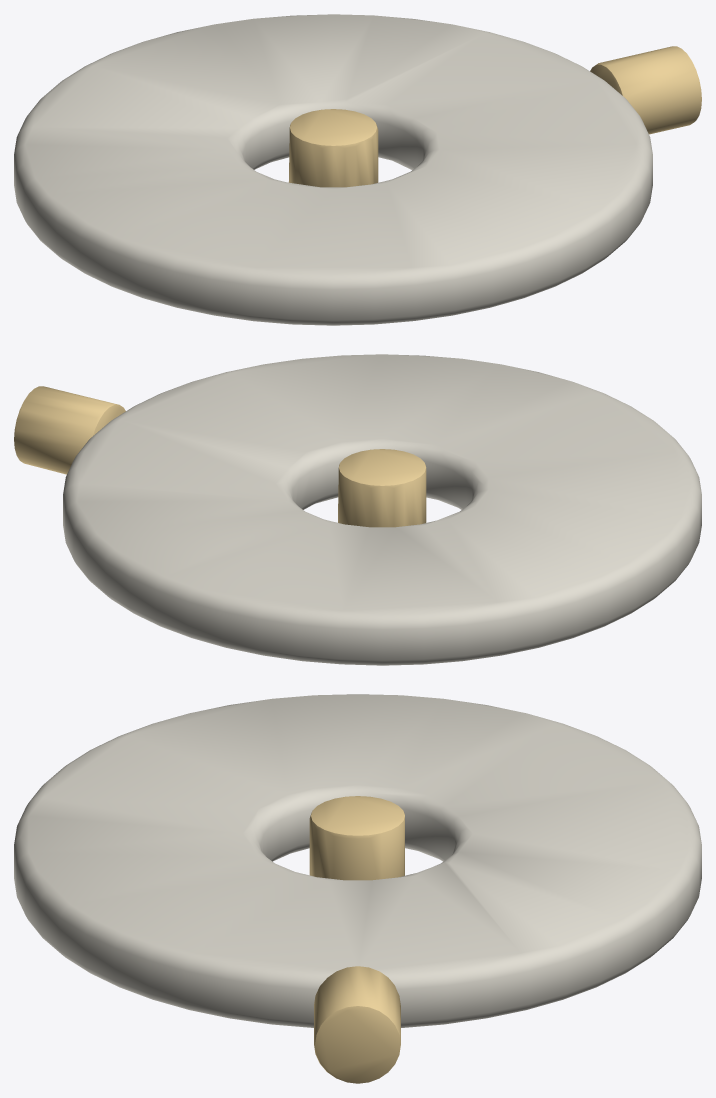
File: HID-INC-002_lod1.glb
3 views of the same model, one above another, from view 1: azimuth 30°, elevation 25°; view 2: azimuth 150°, elevation 25°; view 3: azimuth 270°, elevation 25° (orthographic). The views are drawn at different scales.
Visible parts, largest first — view 1: HID-INC-002_mangueira, HID-INC-002_junta_int, HID-INC-002_junta_ext; view 2: HID-INC-002_mangueira, HID-INC-002_junta_int, HID-INC-002_junta_ext; view 3: HID-INC-002_mangueira, HID-INC-002_junta_ext, HID-INC-002_junta_int.
Boxes of the visible parts, x1=… form: HID-INC-002_mangueira: x1=14, y1=14, x2=652, y2=325; HID-INC-002_junta_int: x1=288, y1=109, x2=378, y2=187; HID-INC-002_junta_ext: x1=590, y1=46, x2=701, y2=134; HID-INC-002_mangueira: x1=63, y1=354, x2=701, y2=665; HID-INC-002_junta_int: x1=338, y1=449, x2=426, y2=527; HID-INC-002_junta_ext: x1=14, y1=386, x2=125, y2=474; HID-INC-002_mangueira: x1=14, y1=694, x2=701, y2=1027; HID-INC-002_junta_ext: x1=314, y1=966, x2=400, y2=1083; HID-INC-002_junta_int: x1=309, y1=796, x2=404, y2=880.
Size of the model in its own units: 0.5643 by 0.0695 by 0.4987.
